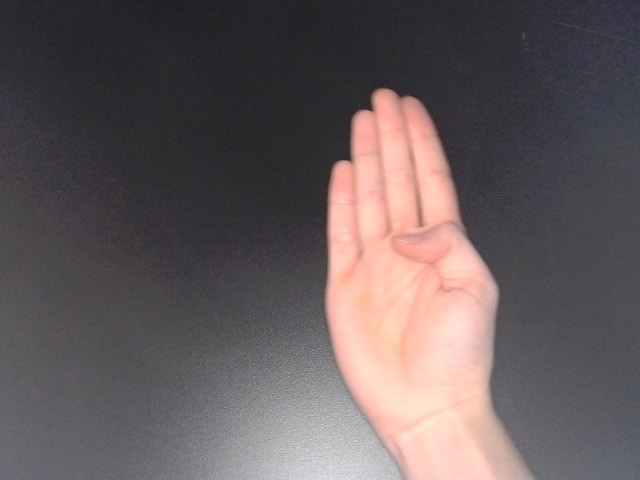b: (319, 83, 506, 445)
